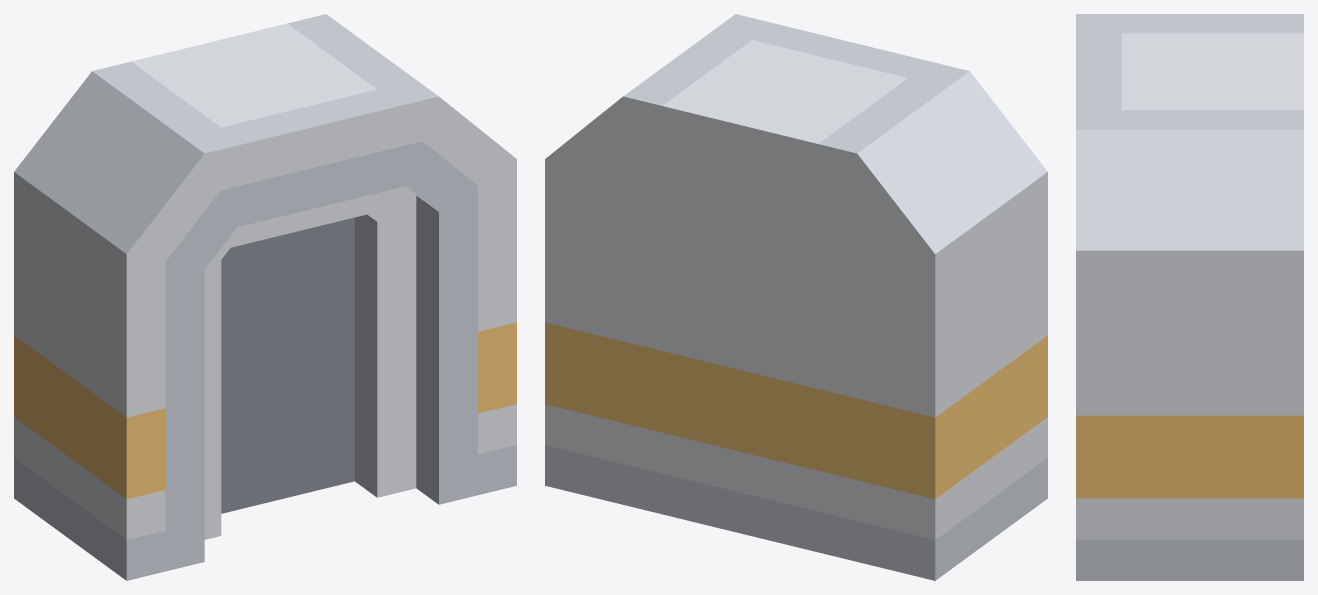
The model's file is corridor_end.gltf.
The picture shows the model from 3 angles, left to right: view 1: azimuth 30°, elevation 25°; view 2: azimuth 150°, elevation 25°; view 3: azimuth 270°, elevation 25°; orthographic projection.
Parts seen in each view (by area): view 1: corridor_end; view 2: corridor_end; view 3: corridor_end.
Boxes of the visible parts, left/top/right/bottom form: corridor_end: left=14, top=14, right=516, bottom=580; corridor_end: left=545, top=14, right=1047, bottom=580; corridor_end: left=1076, top=14, right=1303, bottom=580.
Bounding box in the file's own units: 1 × 1 × 0.5.
